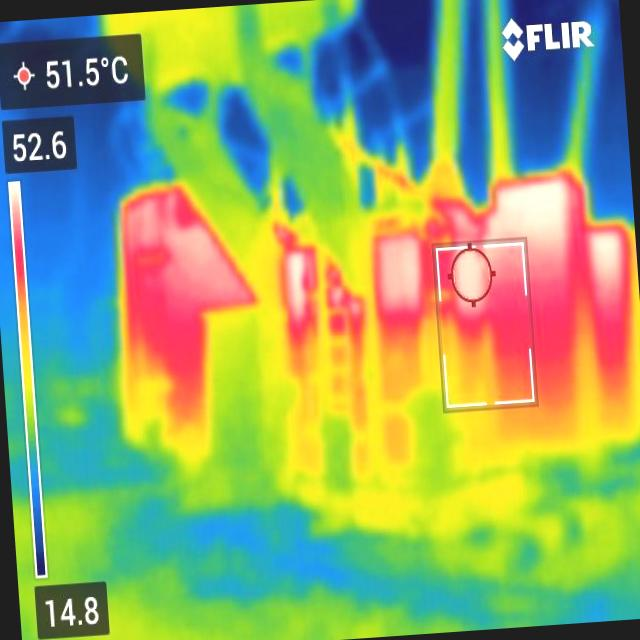full_wire_yellow: (330, 129, 411, 194)
loose_joint_red: (411, 0, 462, 206)
loose_joint_yellow: (483, 0, 513, 191), (560, 33, 594, 191)
point_overload_red: (373, 162, 412, 190)
